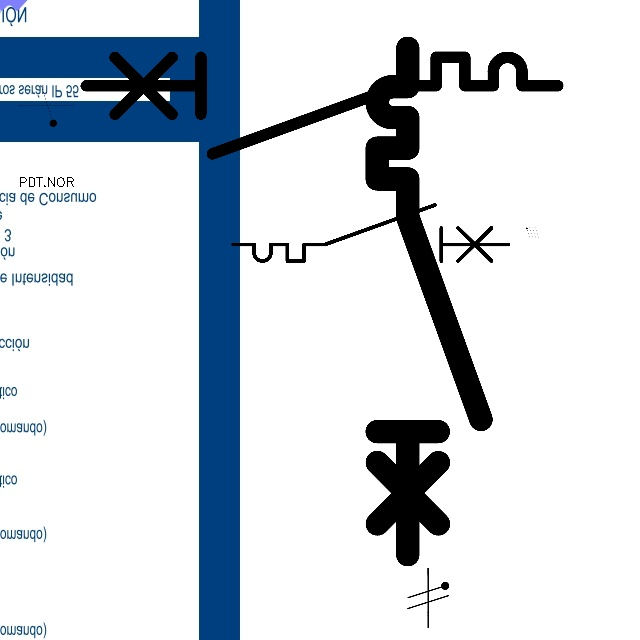interruptor_termomagnetico: (364, 35, 494, 568), (74, 45, 570, 166), (226, 198, 515, 268)
